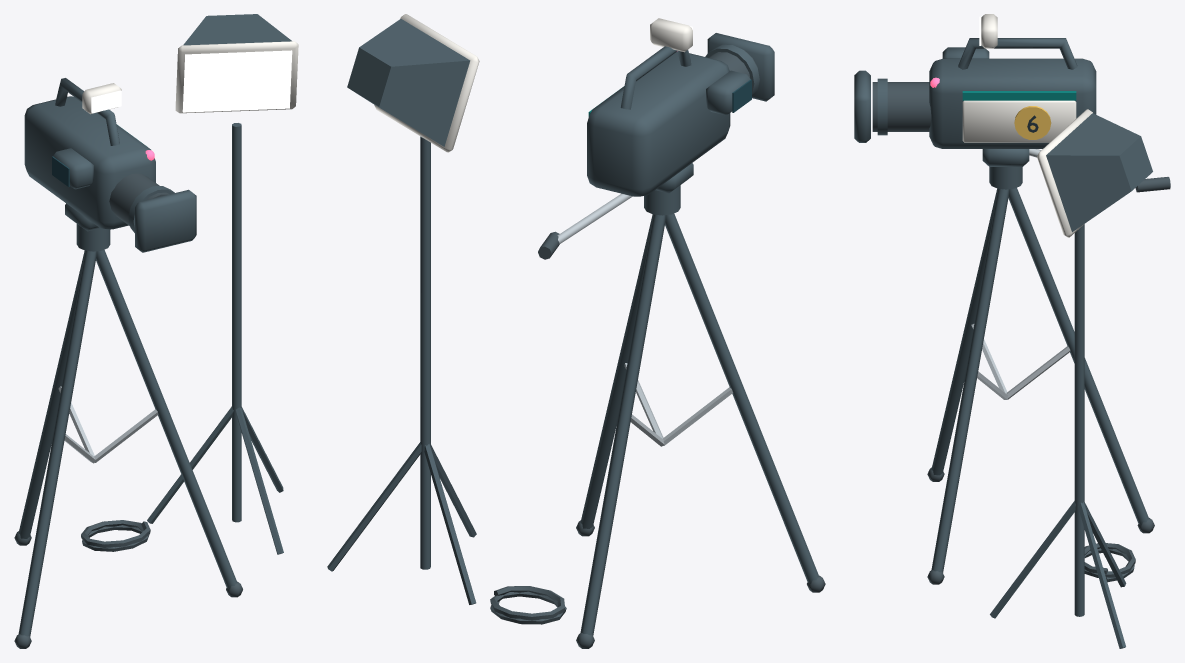
Rendered from prop_camera_crew.glb.
The picture shows the model from 3 angles, left to right: view 1: azimuth 30°, elevation 25°; view 2: azimuth 150°, elevation 25°; view 3: azimuth 270°, elevation 25°; orthographic projection. The views are drawn at different scales.
Visible parts, largest first — view 1: CameraCrew; view 2: CameraCrew; view 3: CameraCrew.
Part boxes in pixels (x1,y1,x2,y2): CameraCrew: (14, 14, 298, 648); CameraCrew: (327, 14, 825, 648); CameraCrew: (854, 14, 1170, 648).
Bounding box in the file's own units: 1.24 × 1.69 × 0.9482.
